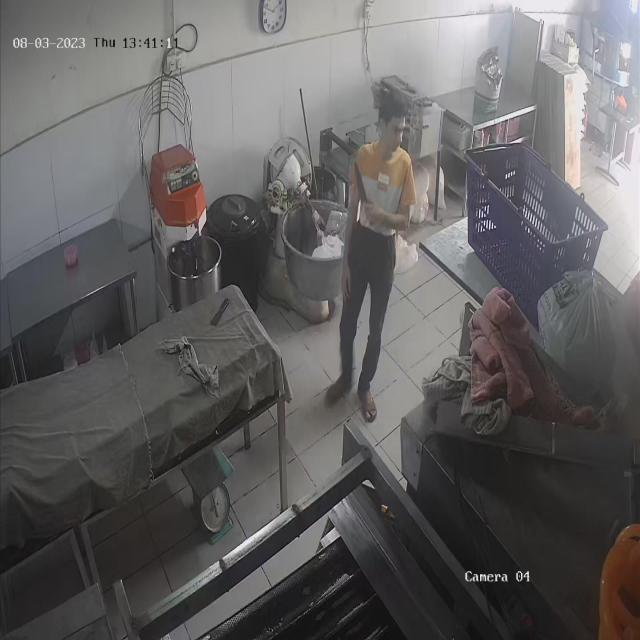Knife: (347, 157, 372, 215)
